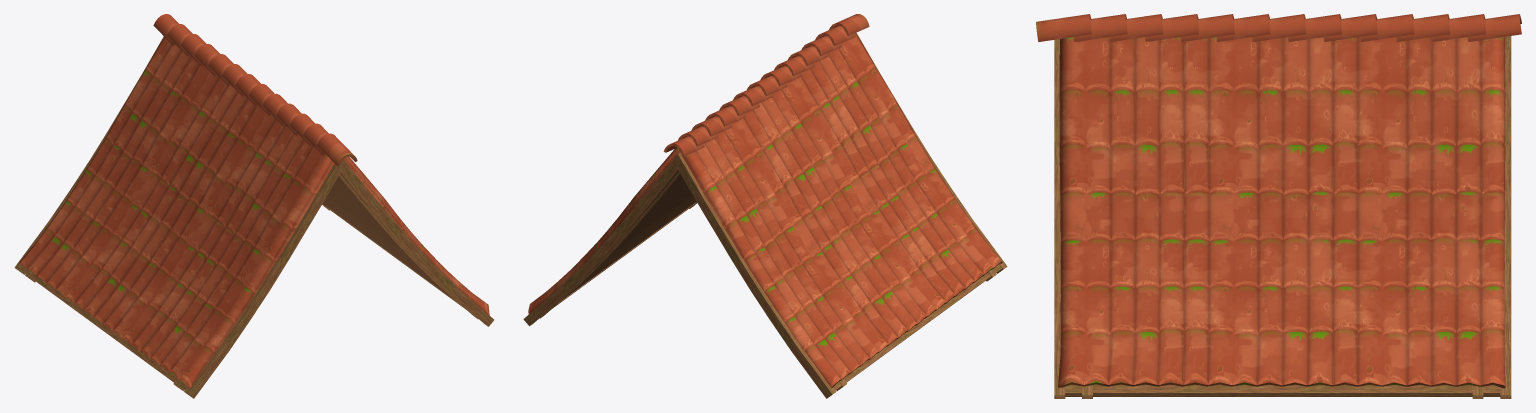
The model's file is Roof_RoundTiles_8x8.gltf.
The picture shows the model from 3 angles, left to right: view 1: azimuth 30°, elevation 25°; view 2: azimuth 150°, elevation 25°; view 3: azimuth 270°, elevation 25°; orthographic projection. The views are drawn at different scales.
Visible parts, largest first — view 1: Roof_RoundTiles_8x8; view 2: Roof_RoundTiles_8x8; view 3: Roof_RoundTiles_8x8.
Boxes of the visible parts, x1=… form: Roof_RoundTiles_8x8: x1=14, y1=14, x2=494, y2=398; Roof_RoundTiles_8x8: x1=523, y1=14, x2=1007, y2=398; Roof_RoundTiles_8x8: x1=1036, y1=14, x2=1521, y2=398.
Bounding box in the file's own units: 9.95 × 6.78 × 10.33.
2 materials, 2 textured.
